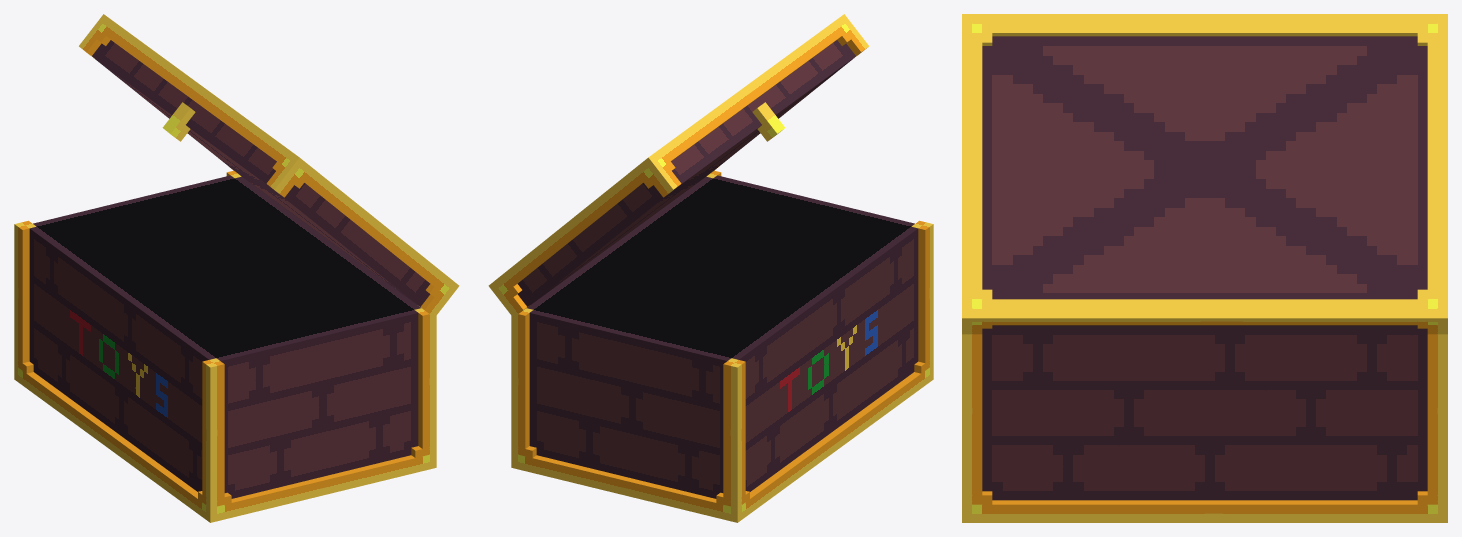
3 views of the same model, side by side, from view 1: azimuth 30°, elevation 25°; view 2: azimuth 150°, elevation 25°; view 3: azimuth 270°, elevation 25° (orthographic). The views are drawn at different scales.
Parts seen in each view (by area): view 1: bottom, lid, group, group6, group8, group2, group3, group5; view 2: bottom, lid, group8, group7, group, group5, group4, group2; view 3: lid, bottom, group6, group7, group3, group4, group2, group5.
Part boxes in pixels (left/top/right/bottom): bottom: left=14, top=175, right=436, bottom=522; lid: left=92, top=23, right=444, bottom=306; group: left=198, top=358, right=231, bottom=507; group6: left=411, top=308, right=436, bottom=457; group8: left=14, top=220, right=35, bottom=373; group2: left=266, top=148, right=314, bottom=197; group3: left=419, top=274, right=459, bottom=317; group5: left=79, top=14, right=115, bottom=58; bottom: left=511, top=175, right=933, bottom=522; lid: left=503, top=23, right=855, bottom=306; group8: left=716, top=358, right=749, bottom=507; group7: left=511, top=308, right=536, bottom=457; group: left=912, top=220, right=933, bottom=373; group5: left=633, top=148, right=681, bottom=197; group4: left=488, top=274, right=528, bottom=317; group2: left=832, top=14, right=868, bottom=58; lid: left=962, top=14, right=1447, bottom=325; bottom: left=962, top=326, right=1447, bottom=522; group6: left=962, top=334, right=992, bottom=504; group7: left=1417, top=334, right=1447, bottom=504; group3: left=962, top=289, right=992, bottom=334; group4: left=1417, top=289, right=1447, bottom=334; group2: left=962, top=14, right=992, bottom=45; group5: left=1417, top=14, right=1447, bottom=45.
Bounding box in the file's own units: 2.2 × 2.9 × 3.
Materials: 1 (1 with a texture image).
